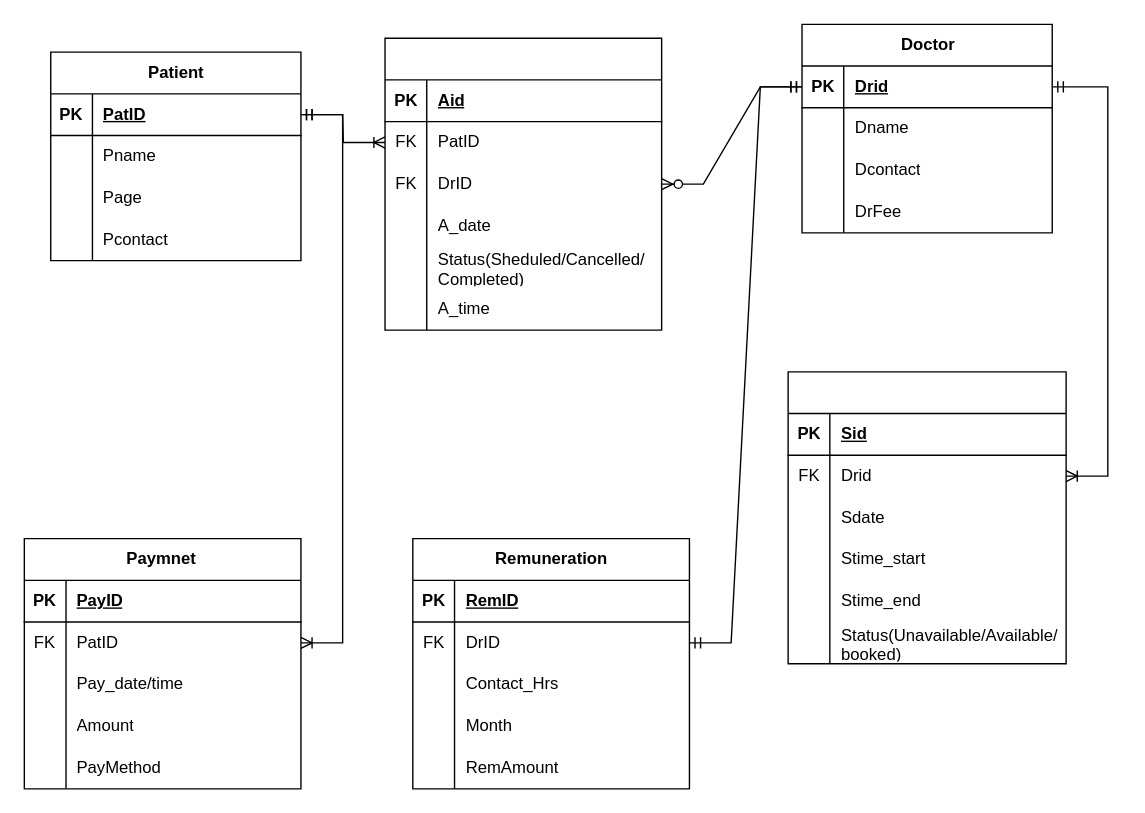
This 1145x813 diagram has some shape labels left out. Each missing label, with the box of its shape:
Appointment: (384, 37, 662, 330)
Slot: (787, 370, 1066, 664)
